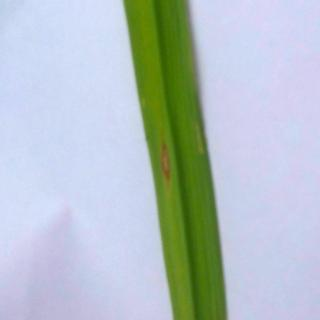Blast: (152, 130, 176, 192)
